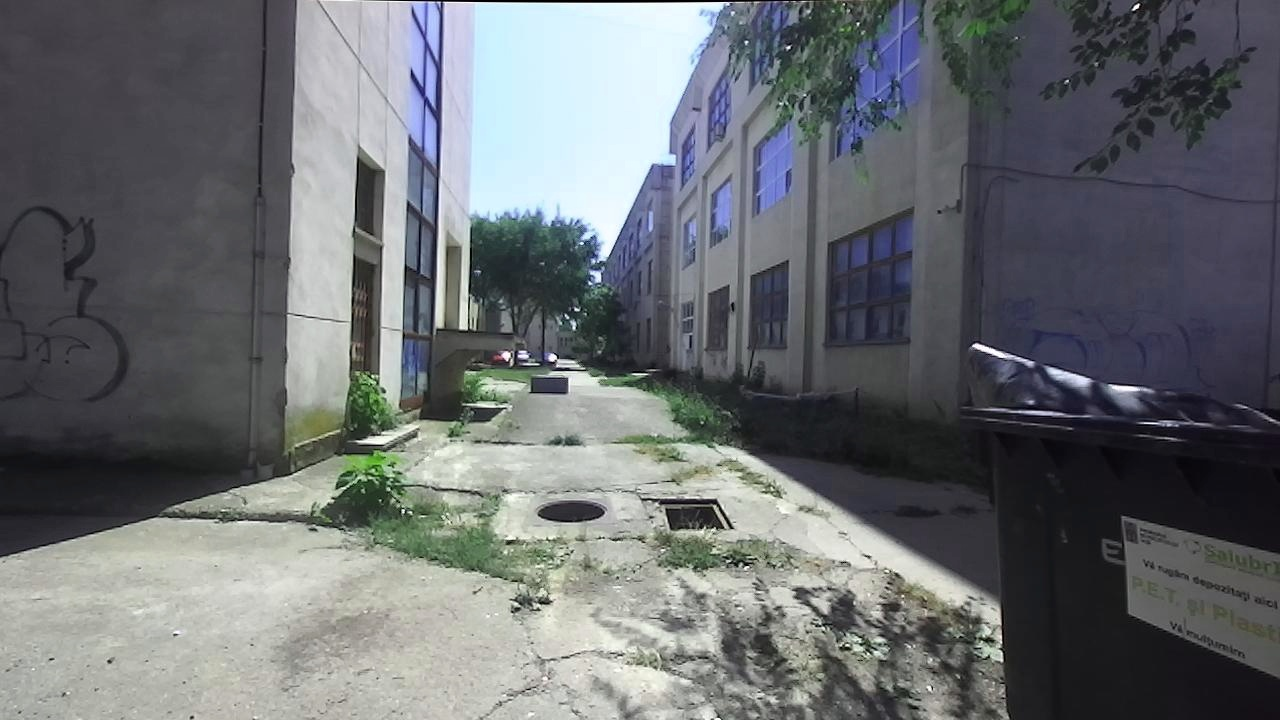drain: (655, 491, 739, 533), (536, 490, 608, 523)
